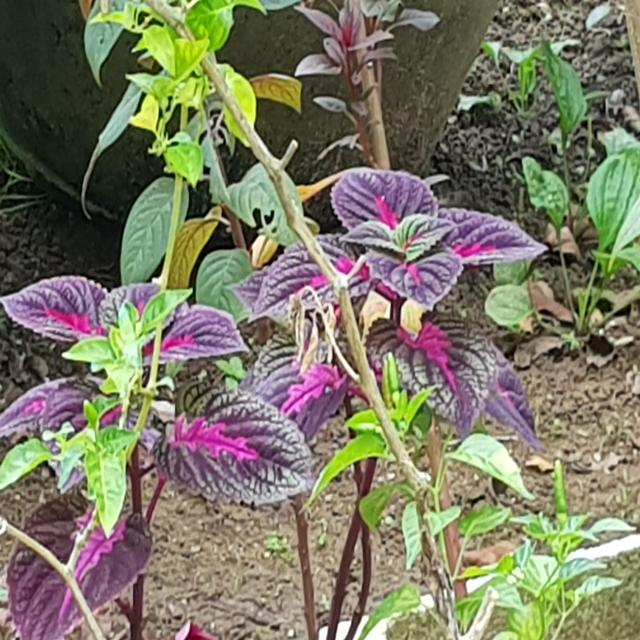Coleus: (1, 242, 316, 633), (248, 151, 550, 453)
